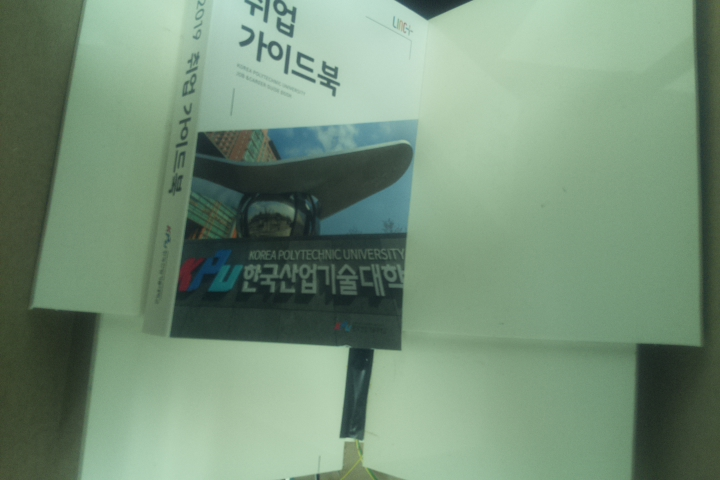book: (138, 1, 437, 351)
